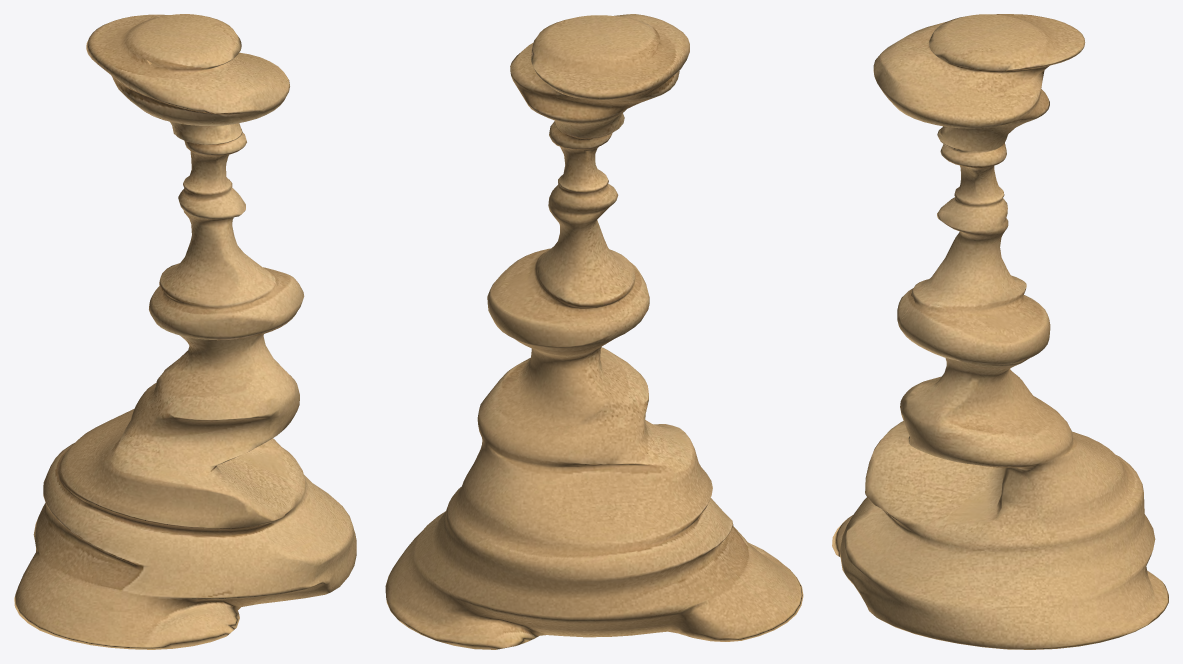
Rendered from tripo_convert_20037eea-8ecb-419c-b930-078c919d605a.fbx.
The picture shows the model from 3 angles, left to right: view 1: azimuth 30°, elevation 25°; view 2: azimuth 150°, elevation 25°; view 3: azimuth 270°, elevation 25°; orthographic projection. The views are drawn at different scales.
Visible parts, largest first — view 1: tripo_node_20037eea; view 2: tripo_node_20037eea; view 3: tripo_node_20037eea.
Part boxes in pixels (<box>): tripo_node_20037eea: <box>14,14,356,649</box>; tripo_node_20037eea: <box>385,14,803,649</box>; tripo_node_20037eea: <box>832,14,1168,649</box>.
Bounding box in the file's own units: 0.6548 × 0.9995 × 0.5679.
1 material, 1 textured.
